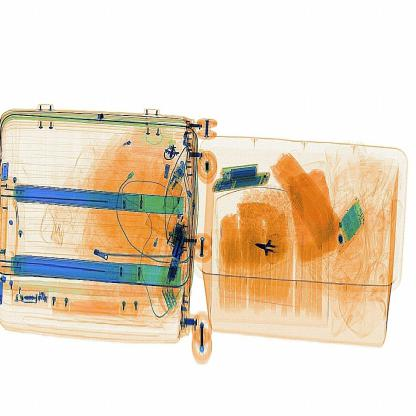gun: (250, 222, 294, 271)
